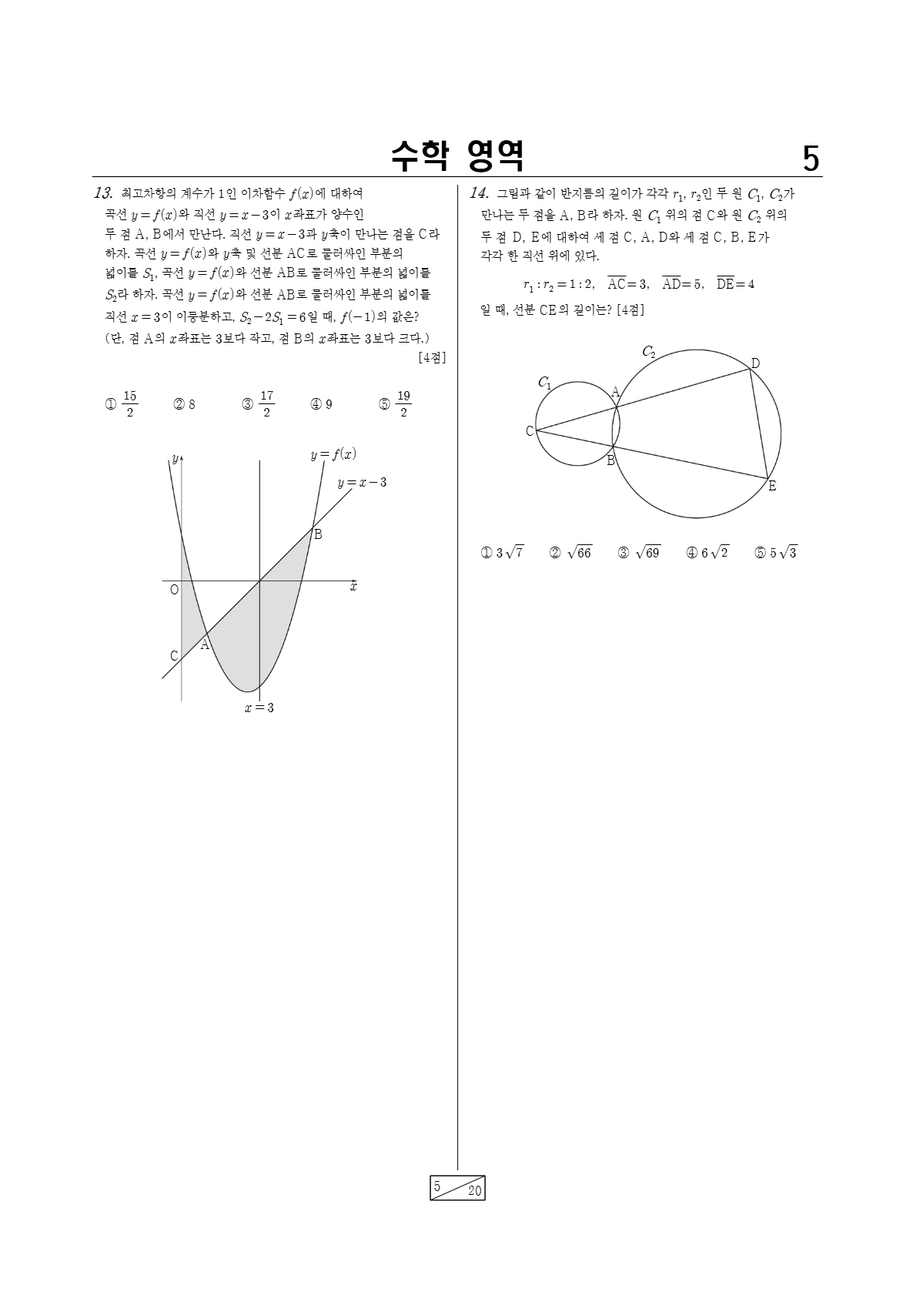opt_1: (475, 542, 493, 560), (105, 396, 117, 410)
opt_2: (548, 544, 562, 559), (172, 396, 185, 410)
opt_3: (241, 396, 254, 411), (616, 544, 629, 559)
opt_4: (309, 396, 322, 410), (686, 544, 698, 559)
opt_5: (378, 396, 390, 411), (754, 544, 766, 559)
